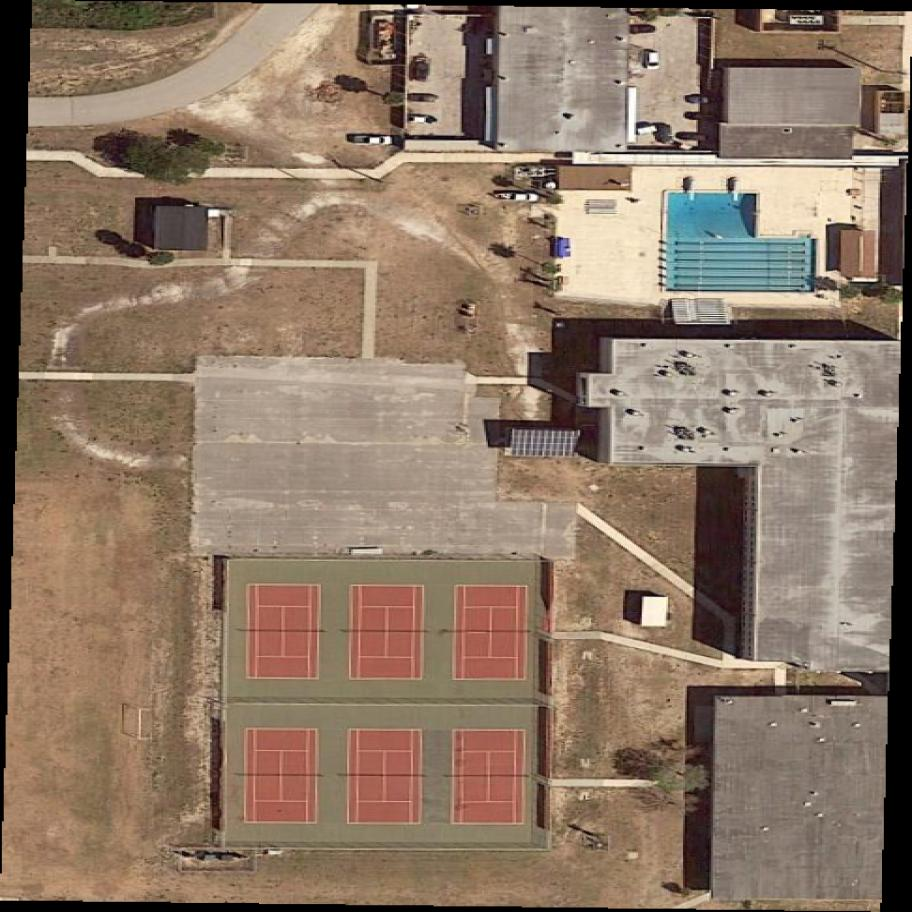small-vehicle: (409, 93, 445, 104), (411, 114, 443, 126), (503, 193, 537, 203), (644, 52, 664, 69), (356, 136, 390, 146), (679, 131, 717, 139), (689, 112, 713, 121), (689, 95, 717, 102)
